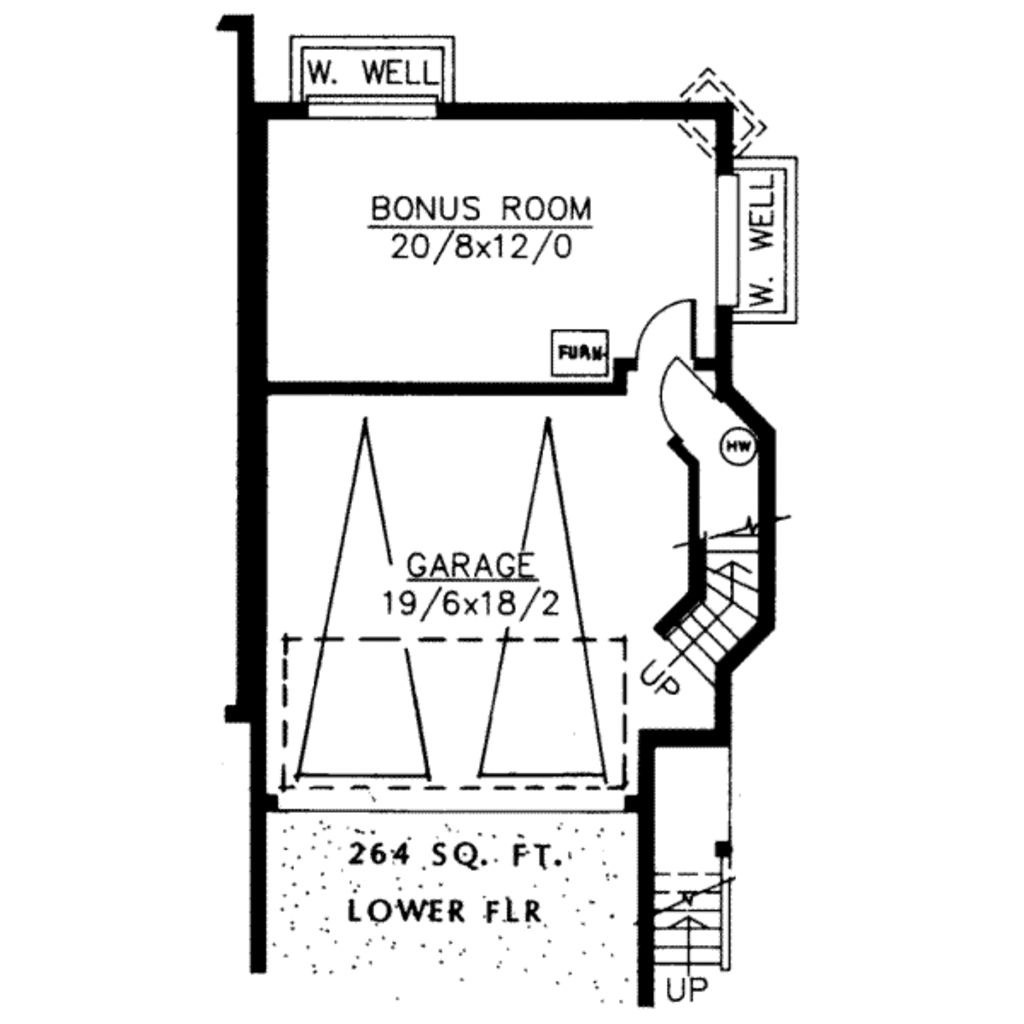door: (636, 355, 742, 440), (628, 291, 705, 361)
stairs: (650, 453, 781, 694), (639, 741, 733, 986)
window: (311, 88, 450, 121), (720, 164, 747, 308)
